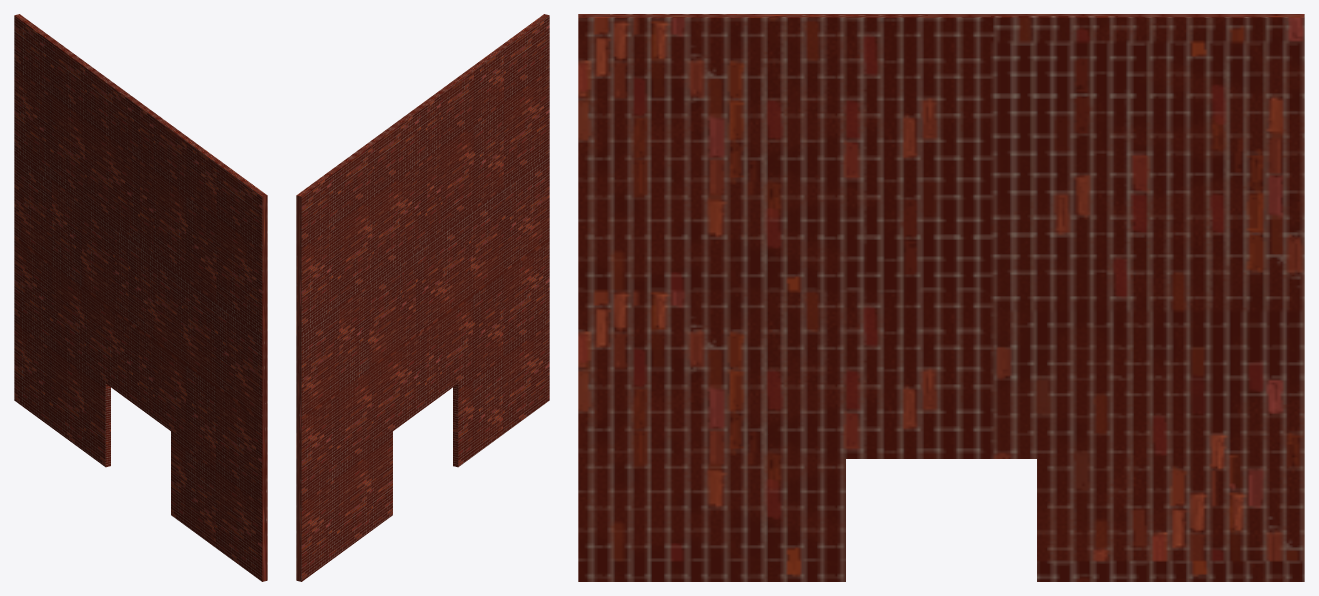
File: SM_bfk2bottom.fbx
3 views of the same model, side by side, from view 1: azimuth 30°, elevation 25°; view 2: azimuth 150°, elevation 25°; view 3: azimuth 270°, elevation 25° (orthographic). The views are drawn at different scales.
Visible parts, largest first — view 1: SM_resbrick_bfkgraff; view 2: SM_resbrick_bfkgraff; view 3: SM_resbrick_bfkgraff.
Part boxes in pixels (x1=…): SM_resbrick_bfkgraff: x1=14, y1=14, x2=267, y2=581; SM_resbrick_bfkgraff: x1=296, y1=14, x2=549, y2=581; SM_resbrick_bfkgraff: x1=578, y1=14, x2=1304, y2=581.
Size of the model in its own units: 17.76 by 1225 by 1429.
